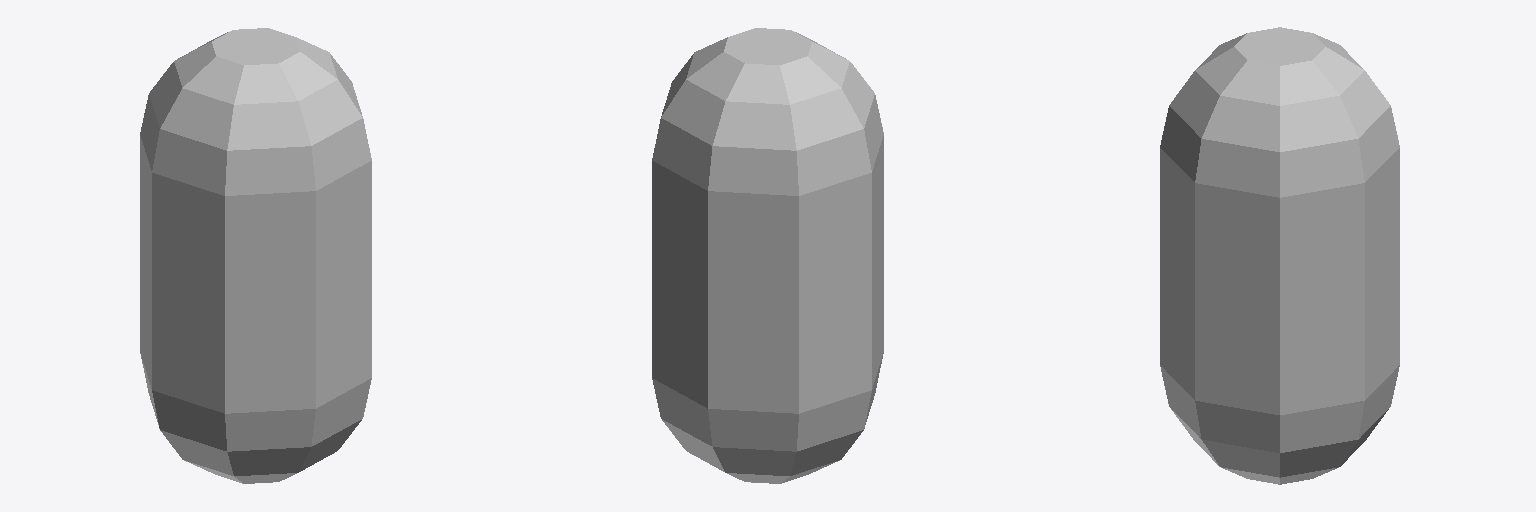
File: capsule_collider.obj
The picture shows the model from 3 angles: view 1: azimuth 30°, elevation 25°; view 2: azimuth 150°, elevation 25°; view 3: azimuth 270°, elevation 25°; orthographic projection.
Parts seen in each view (by area): view 1: Sphere.001_Sphere.003; view 2: Sphere.001_Sphere.003; view 3: Sphere.001_Sphere.003.
Part boxes in pixels (bbox=[...]): Sphere.001_Sphere.003: bbox=[140, 28, 371, 483]; Sphere.001_Sphere.003: bbox=[652, 28, 883, 483]; Sphere.001_Sphere.003: bbox=[1160, 27, 1399, 484].
Bounding box in the file's own units: 2 × 3.85 × 2.